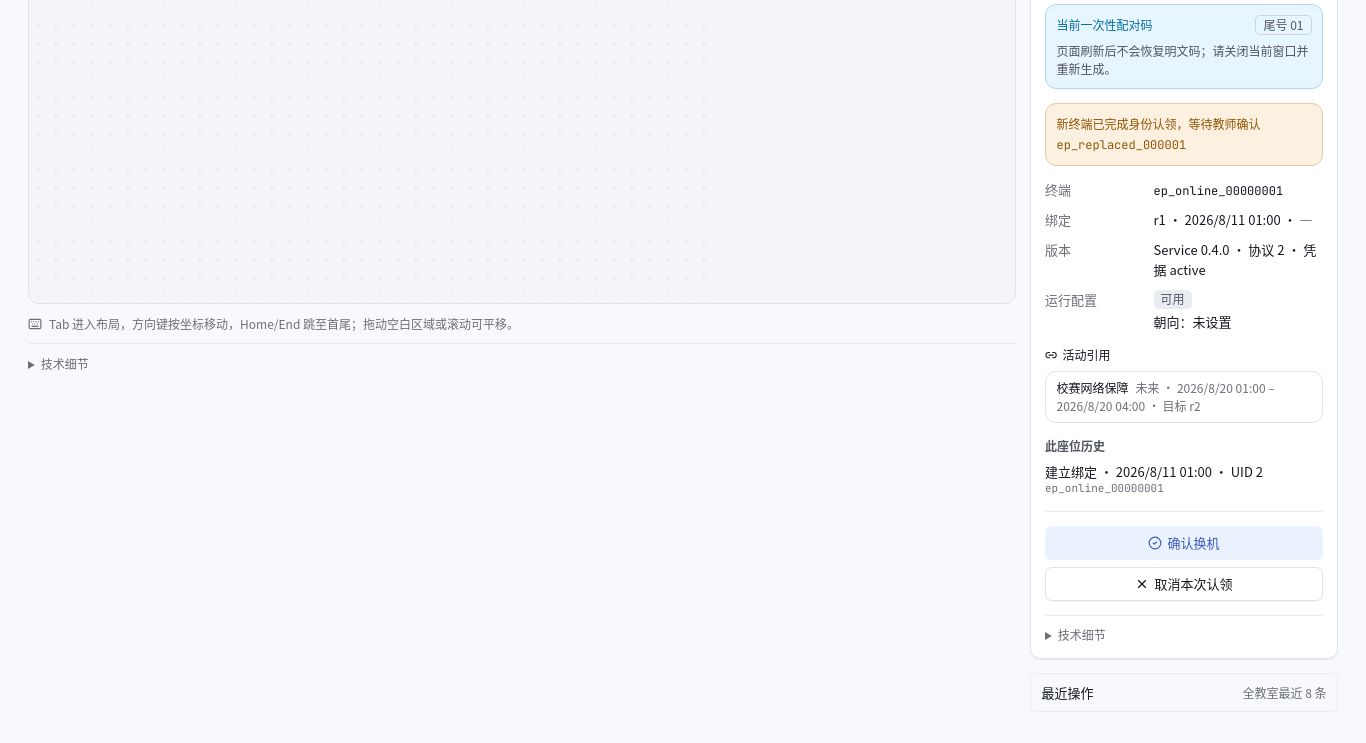
Test: exam classroom endpoint binding workspace › lets a system admin revoke the old endpoint after confirmReplacement without auto-revoking
(page scrolled)
Step 1. Click the button "确认换机" → {"x": 1184, "y": 543}, box [1045,526,1323,560]
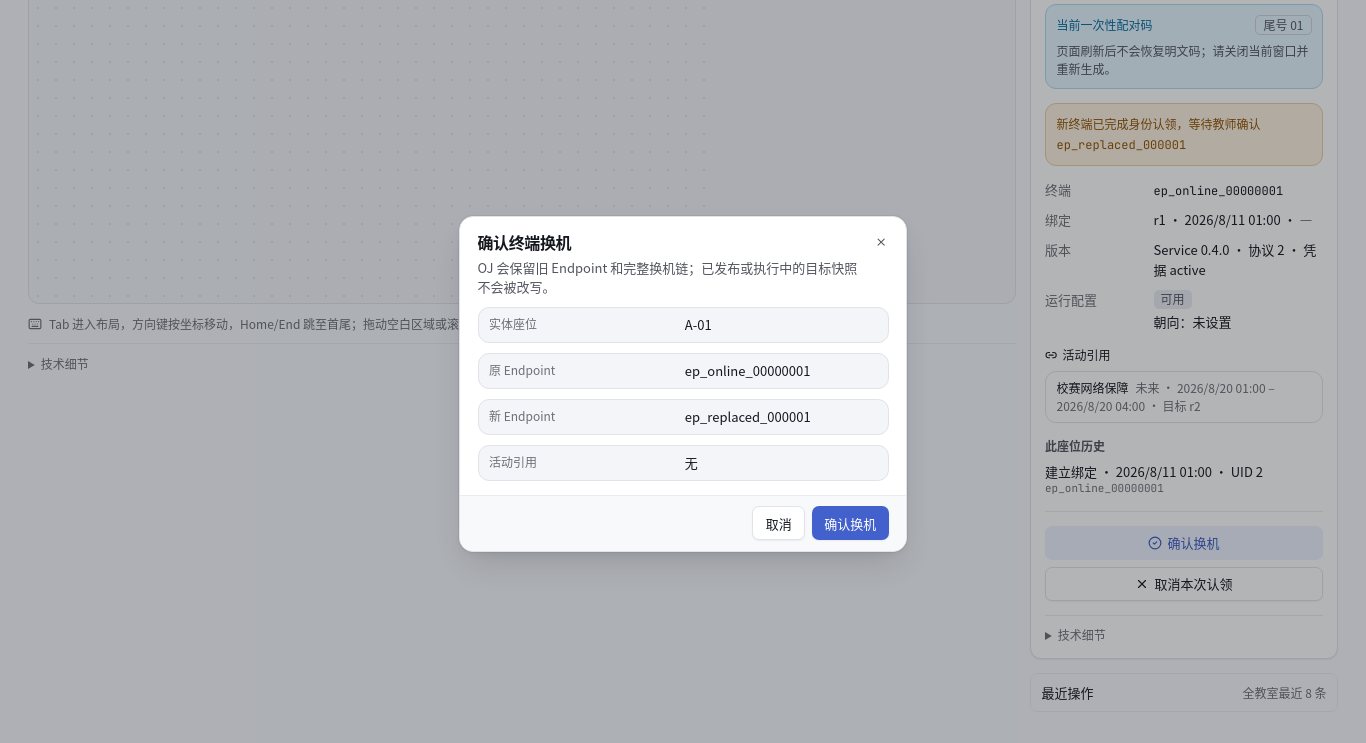
Step 2. Click the button "确认换机" → {"x": 850, "y": 523}, box [812,506,888,540]
(page scrolled)
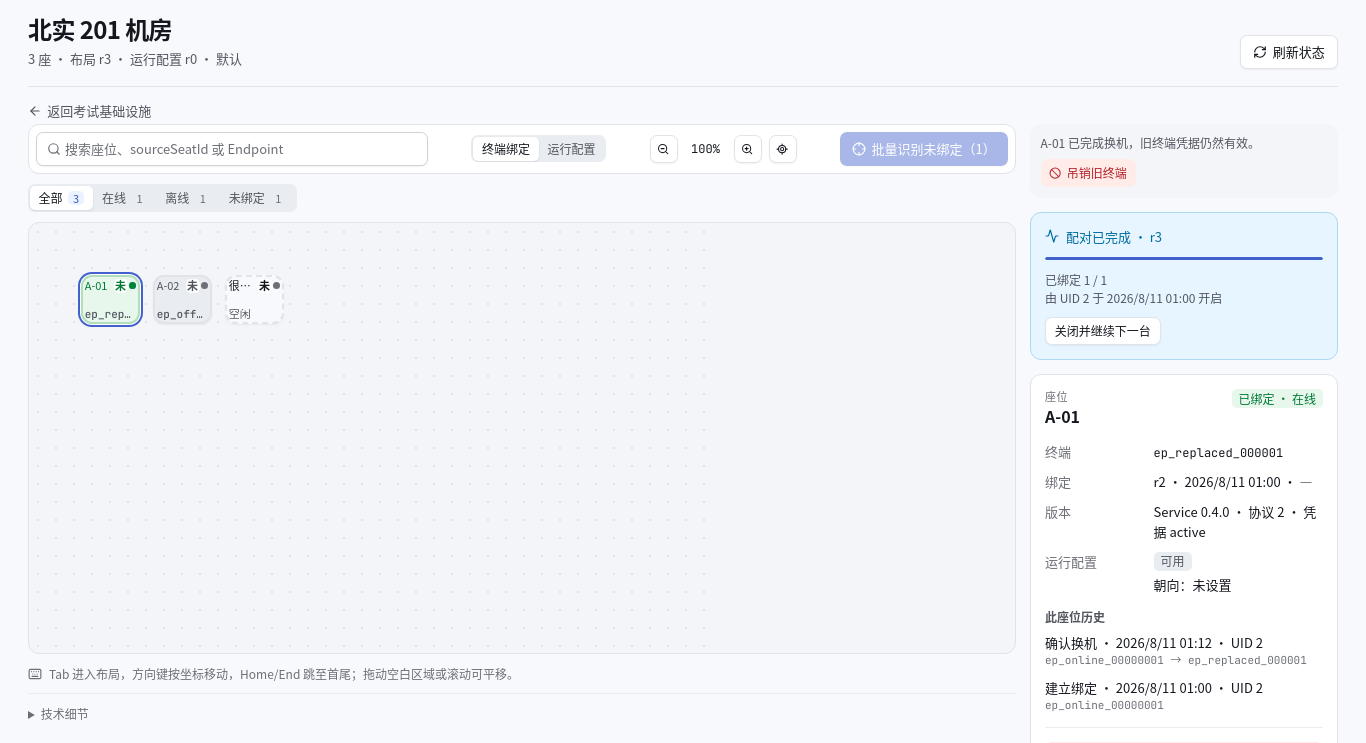
Step 3. Click the button "吊销旧终端" → {"x": 1088, "y": 173}, box [1040,159,1136,187]
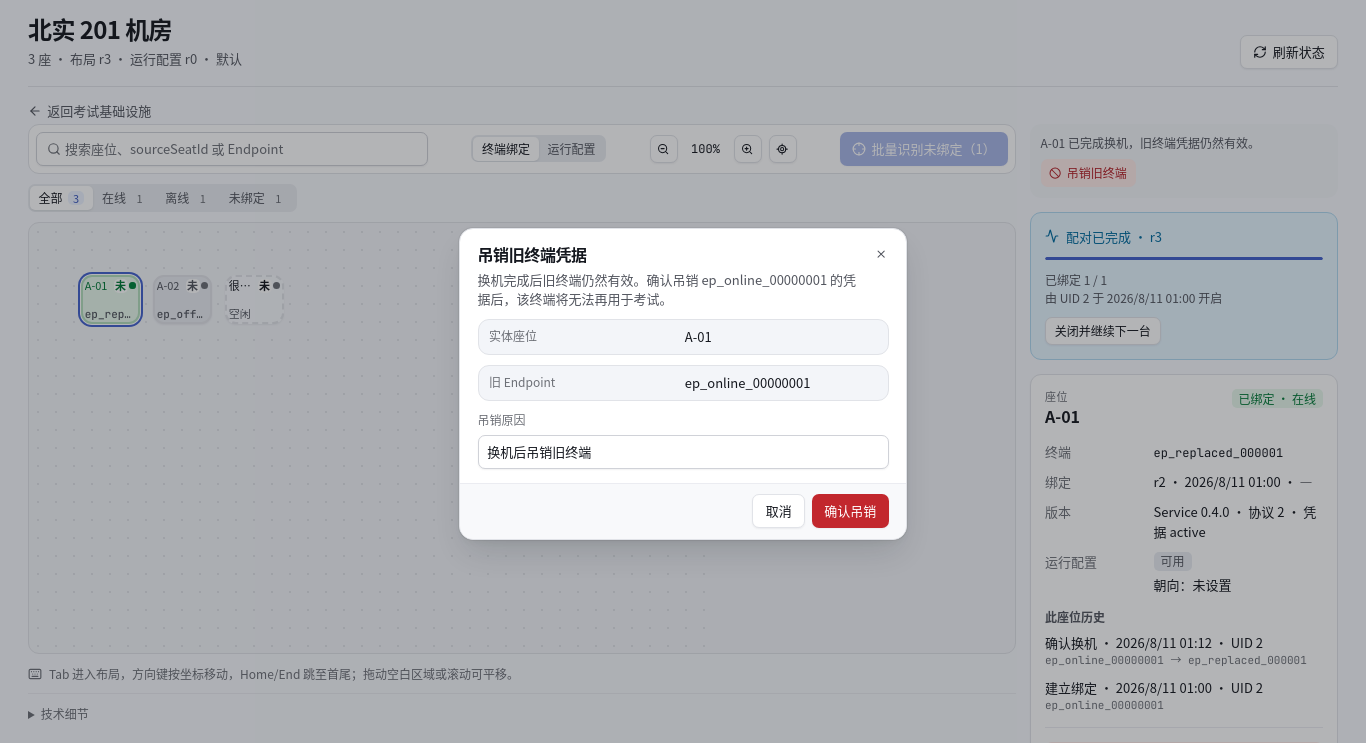
Result: the field labelled "吊销原因" holds "换机后吊销旧终端" at [478,435,888,469]
Step 4. Click the button "确认吊销" → {"x": 850, "y": 511}, box [812,494,888,528]
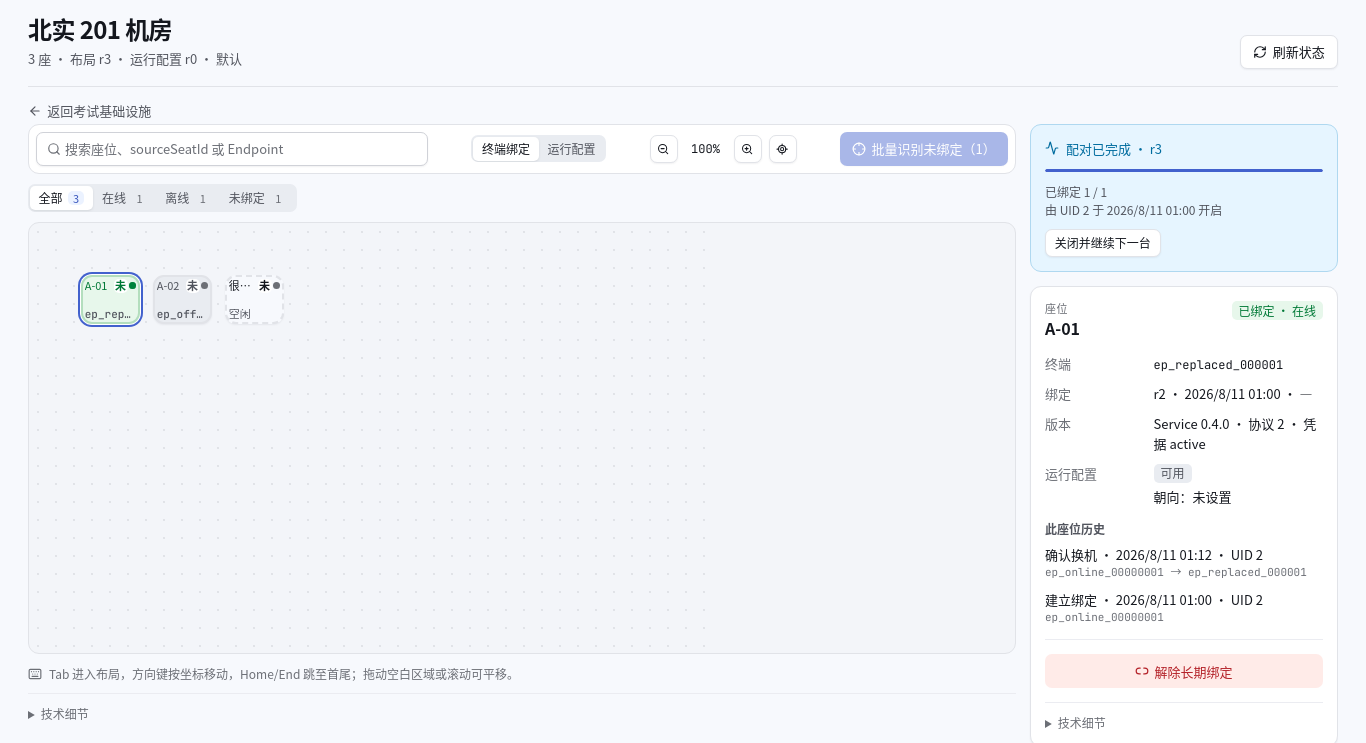
Result: the button "吊销旧终端" is gone
